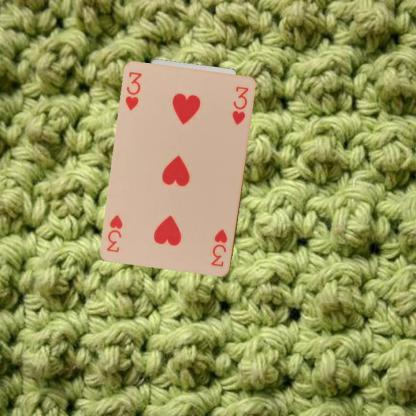3h: (122, 69, 144, 112), (208, 227, 228, 268)
